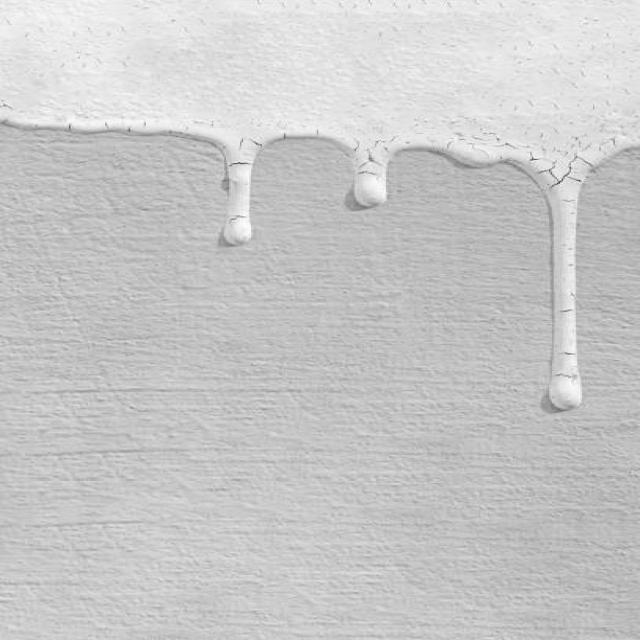paint drips: (1, 91, 640, 424)
